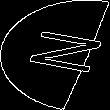N_E: (8, 29, 102, 81)
